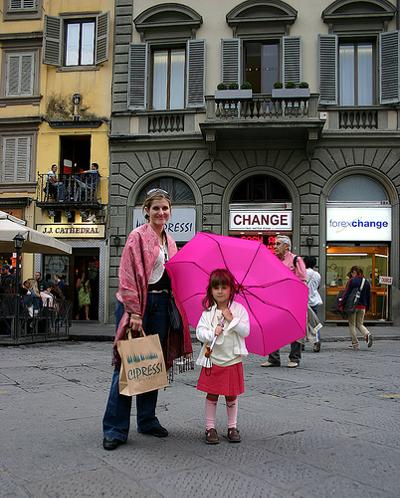person: (196, 269, 251, 445)
